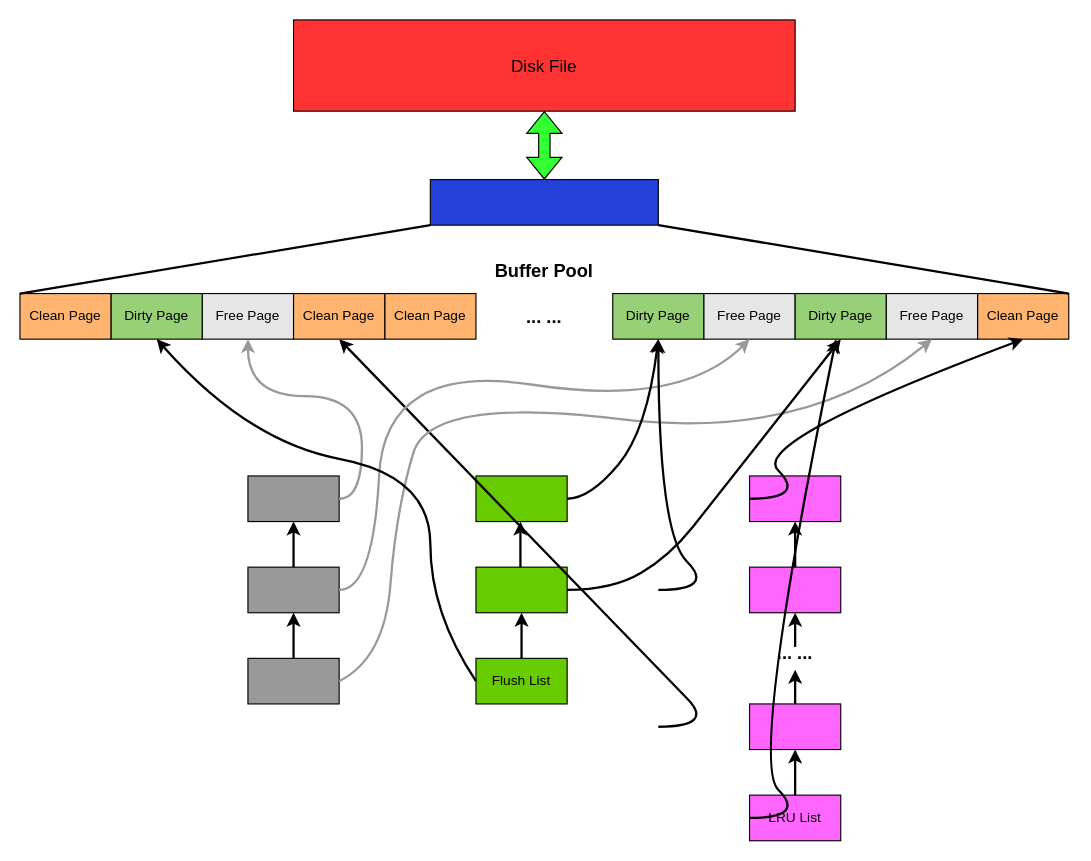
Image size: 1091x861. Some labels were removed from this diagram. The shapes that lost their labels are listed below. From the top down, each one's centre as x and y in pixels, then its label:
At point (543, 201): "page hash".
At point (293, 680): "Free List".
